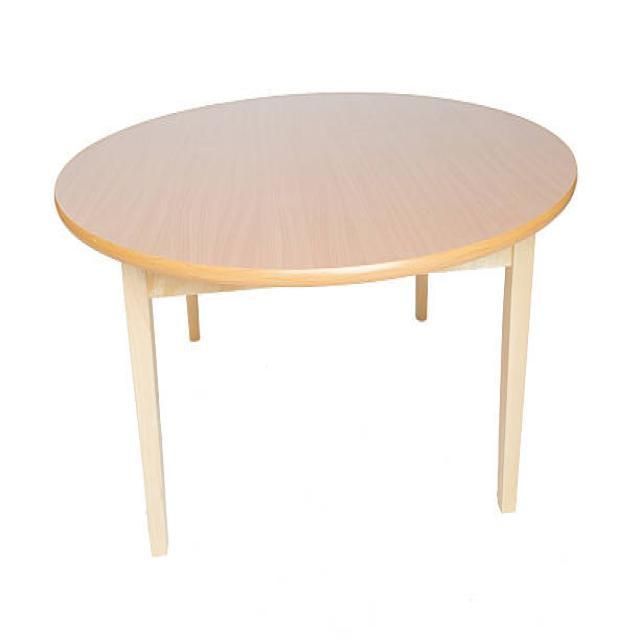table: (54, 88, 578, 556)
